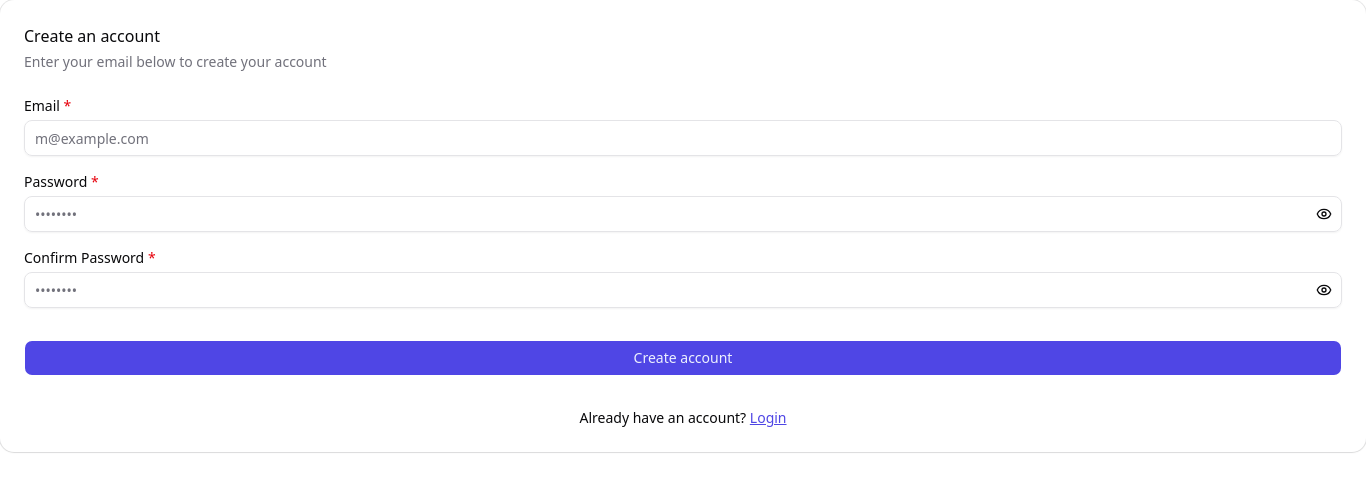
Test: RegisterForm - Validation Logic › Email Validation › should show 'Invalid email format' error when email format is invalid
Note: Fill in with invalid email
In the field with placeholder "m@example.com": (683, 138) 24,120 -> 1342,156, type "invalid-email"
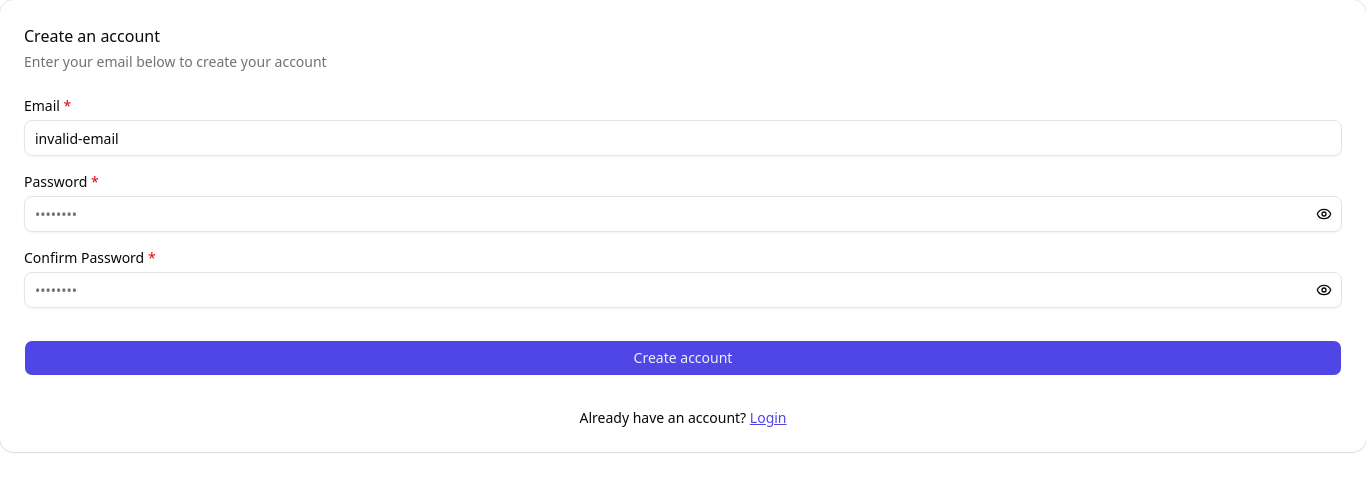
In the 1st password field with placeholder "••••••••": (683, 214) 24,196 -> 1342,232, type "password123"
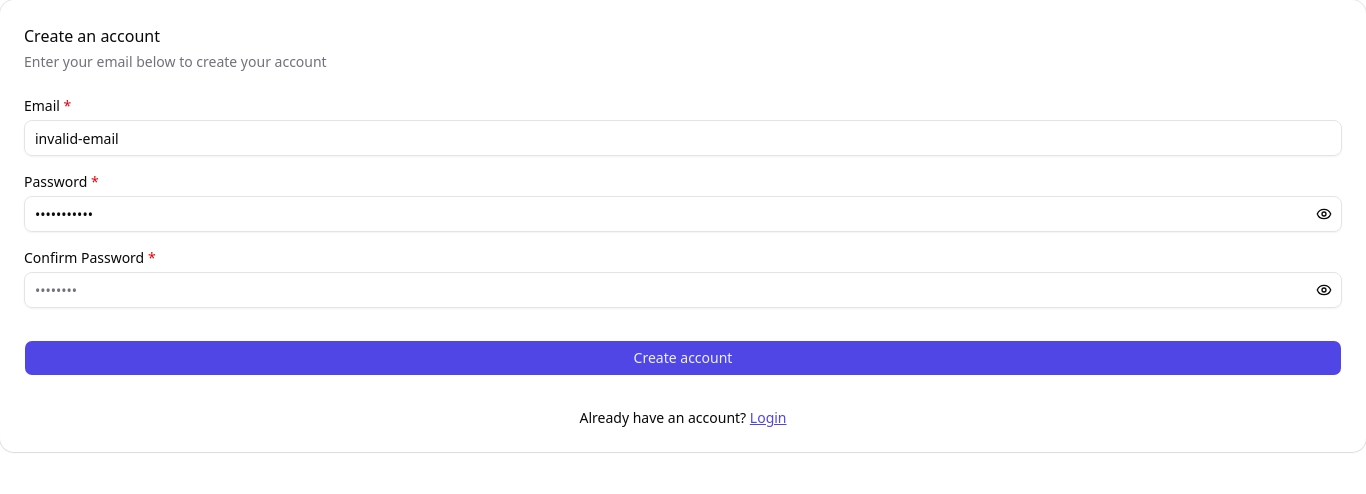
In the password field with placeholder "••••••••": (683, 290) 24,272 -> 1342,308, type "password123"
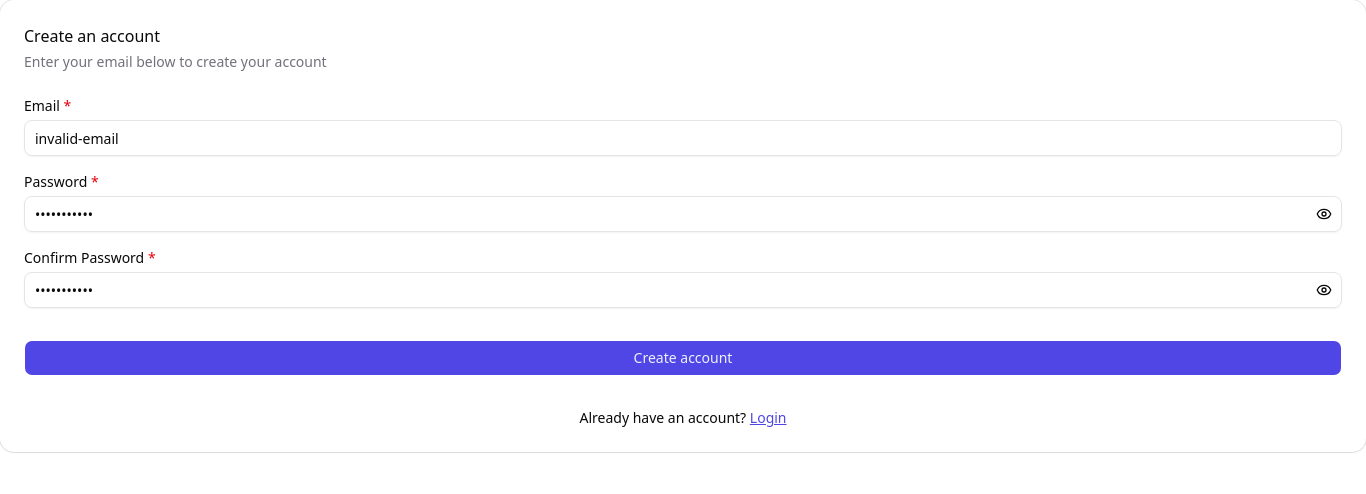
Note: Submit the form
Click the button "Create account": (683, 358) 24,340 -> 1342,376
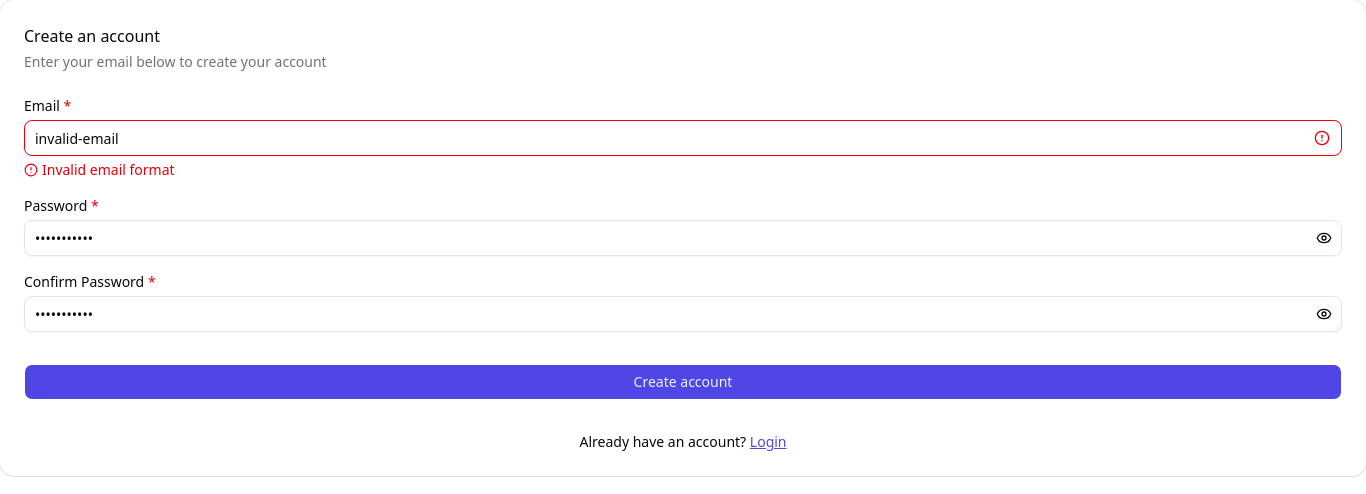
Result: the text "Invalid email format" is shown at 24,160 -> 175,179
